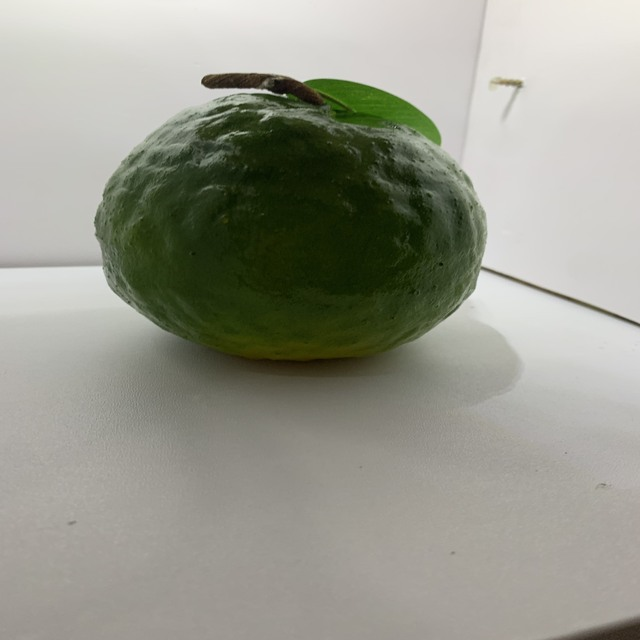Cam xanh: (83, 63, 507, 375)
